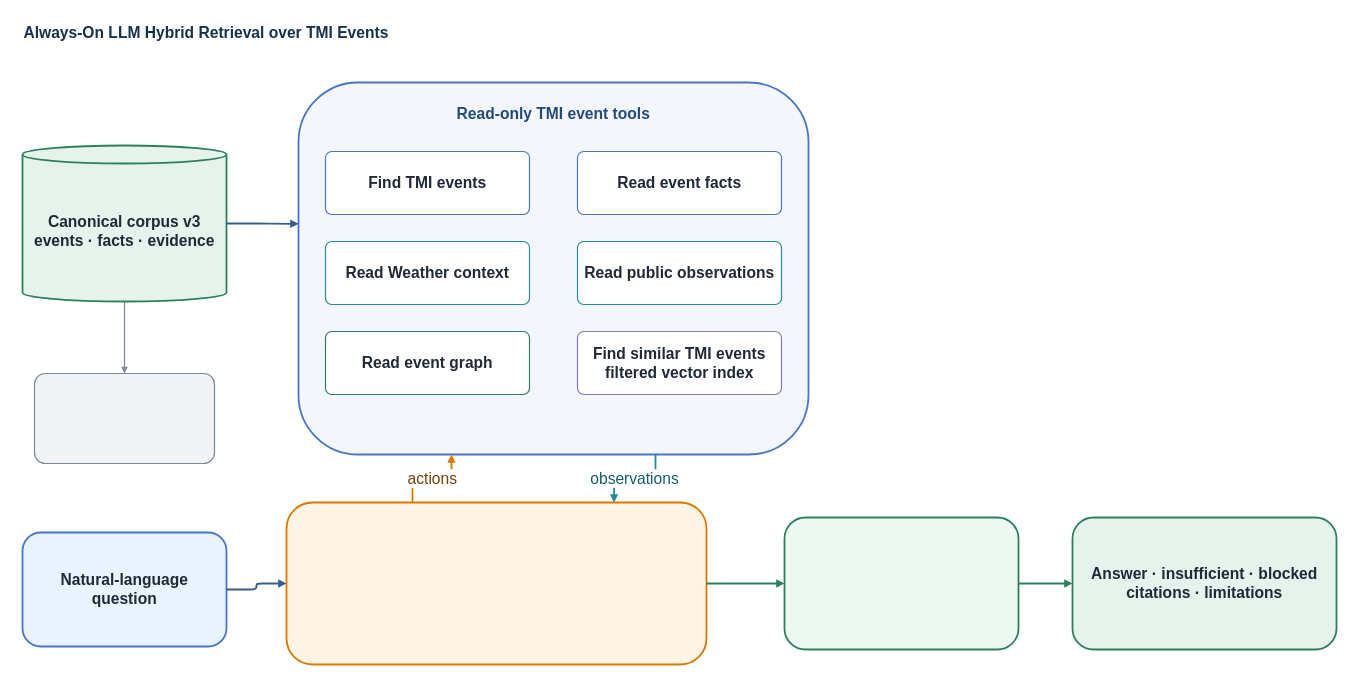
This 1348x676 diagram has some shape labels left out. Each missing label, with the box of its shape:
LLM Query Agent select · observe · continue / stop ≤ 4 turns · ≤ 6 tool calls: (285, 501, 707, 665)
Offline KG exports RDF/Turtle · Neo4j: (34, 373, 215, 464)
Support validation evidence IDs · claim boundary: (783, 516, 1019, 650)
